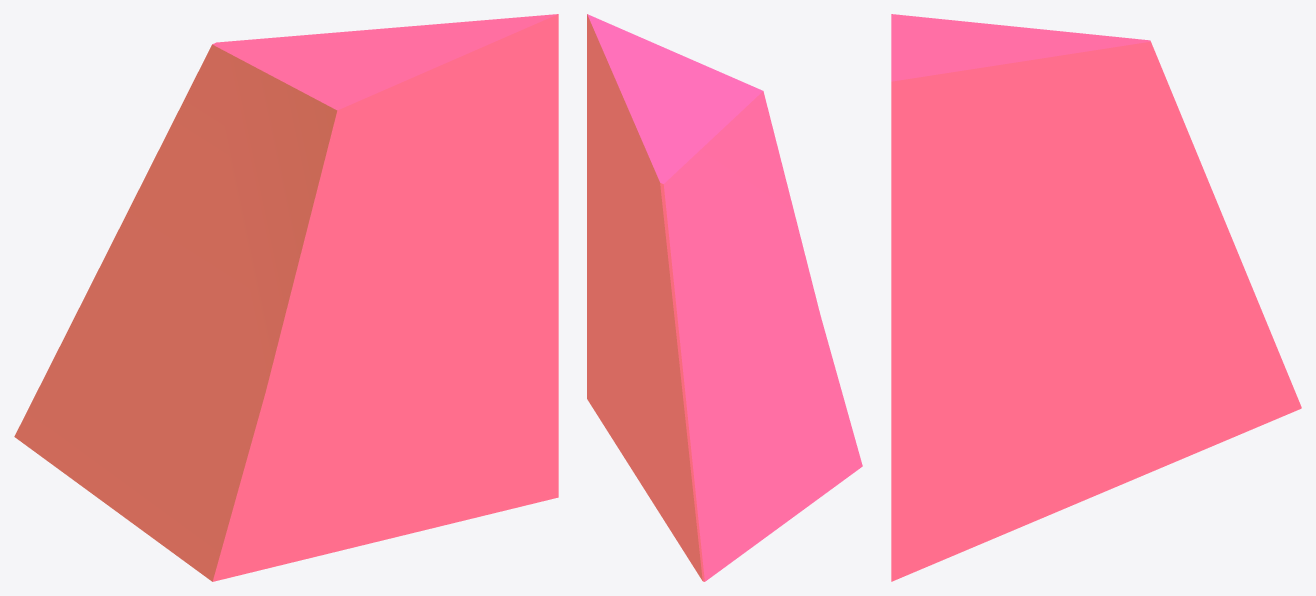
3 renders of one model, left to right at view 1: azimuth 30°, elevation 25°; view 2: azimuth 150°, elevation 25°; view 3: azimuth 270°, elevation 25°, orthographic. The views are drawn at different scales.
Parts seen in each view (by area): view 1: polySurface3; view 2: polySurface3; view 3: polySurface3.
Boxes of the visible parts, x1,y1,x2,y2 form: polySurface3: [14, 14, 558, 581]; polySurface3: [587, 14, 862, 581]; polySurface3: [891, 14, 1301, 581].
Bounding box in the file's own units: 3.98 × 5.31 × 3.95.
